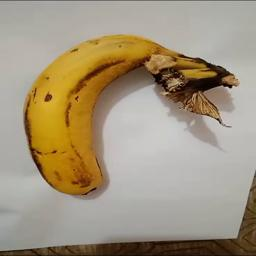Banana Semifresh: (17, 26, 242, 197)
